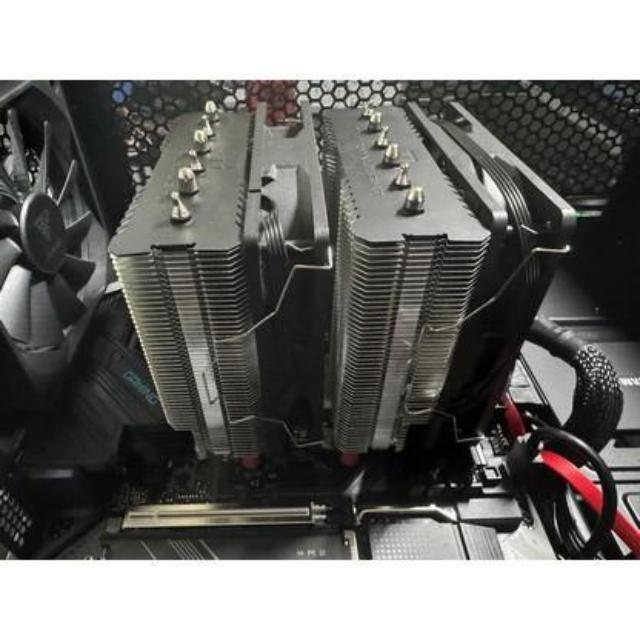CPU_Fan: (101, 98, 490, 478)
